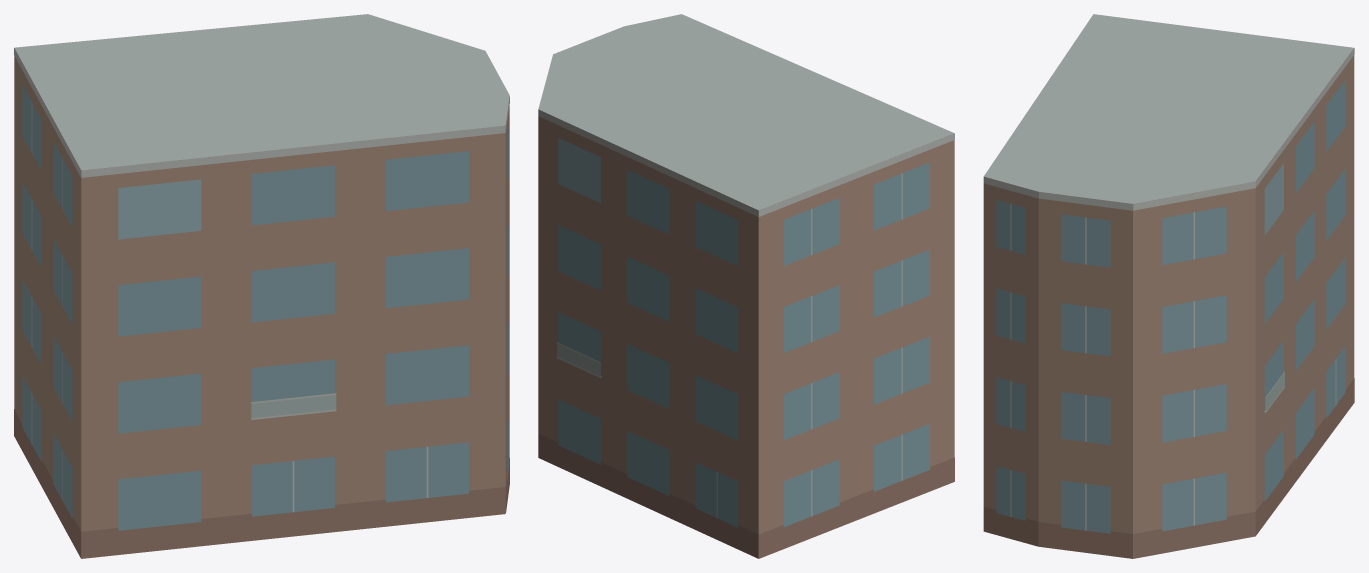
The model's file is survey-upis-32824960.glb.
3 renders of one model, left to right at view 1: azimuth 30°, elevation 25°; view 2: azimuth 150°, elevation 25°; view 3: azimuth 270°, elevation 25°, orthographic. The views are drawn at different scales.
Visible parts, largest first — view 1: survey-upis-32824960.tmp; view 2: survey-upis-32824960.tmp; view 3: survey-upis-32824960.tmp.
Boxes of the visible parts, x1,y1,x2,y2 form: survey-upis-32824960.tmp: (14, 14, 509, 558); survey-upis-32824960.tmp: (538, 14, 954, 558); survey-upis-32824960.tmp: (983, 14, 1354, 558).
Bounding box in the file's own units: 14.7 × 12.8 × 12.13.
